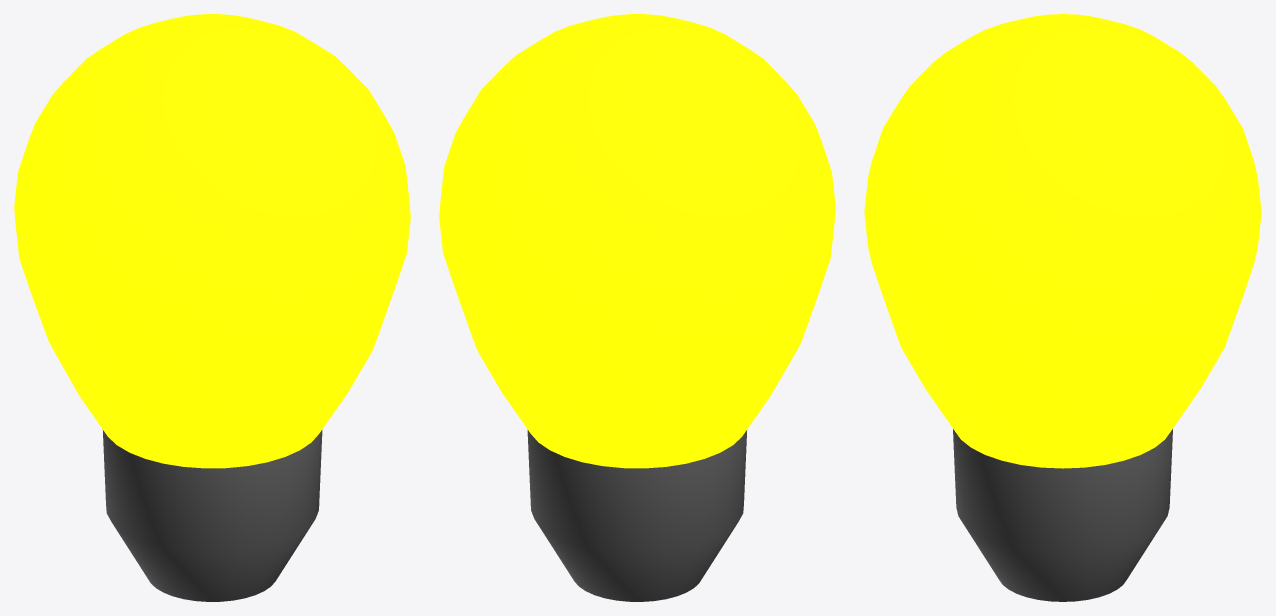
The model's file is IdeaBulb.fbx.
The picture shows the model from 3 angles, left to right: view 1: azimuth 30°, elevation 25°; view 2: azimuth 150°, elevation 25°; view 3: azimuth 270°, elevation 25°; orthographic projection.
Parts seen in each view (by area): view 1: Bulb, Base; view 2: Bulb, Base; view 3: Bulb, Base.
Boxes of the visible parts, x1,y1,x2,y2 form: Bulb: [14, 14, 410, 468]; Base: [103, 430, 322, 601]; Bulb: [439, 14, 835, 468]; Base: [527, 430, 746, 601]; Bulb: [864, 14, 1261, 468]; Base: [953, 429, 1172, 601].
Size of the model in its own units: 361 by 543 by 361.
